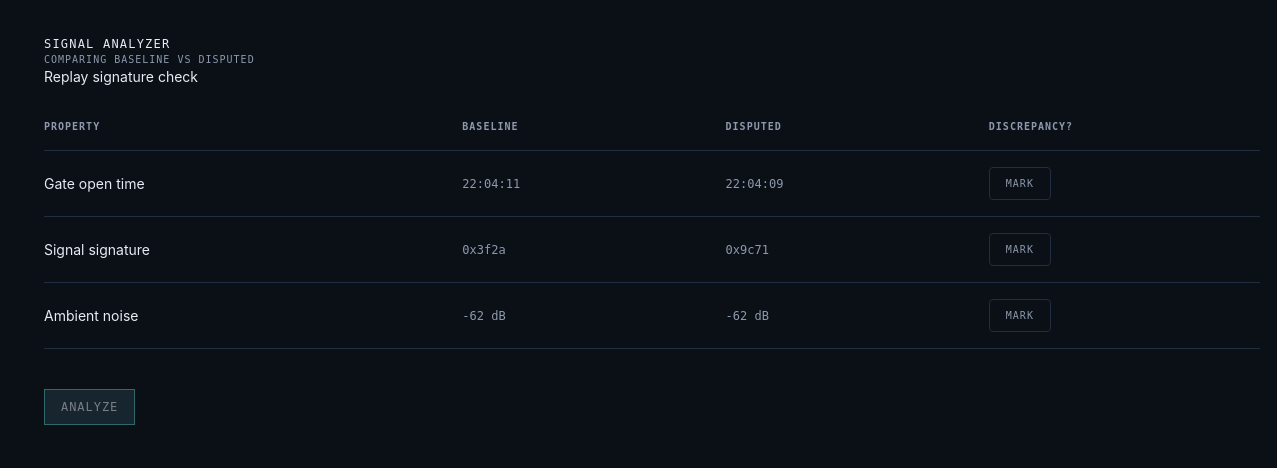
it: SignalAnalyzerApp › retry after incorrect submission
This screenshot has width=1277, height=468.
Click the checkbox named "Mark Gate open time as a discrepancy". click: (1020, 184)
box: [989,167,1051,200]
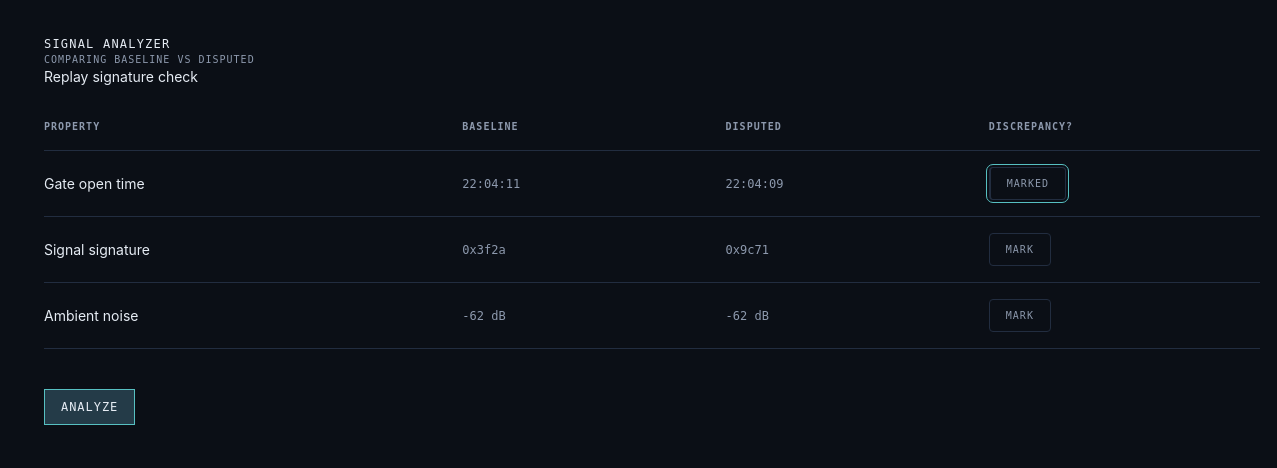
Click the button "Analyze". click: (90, 407)
box: [44,389,135,425]
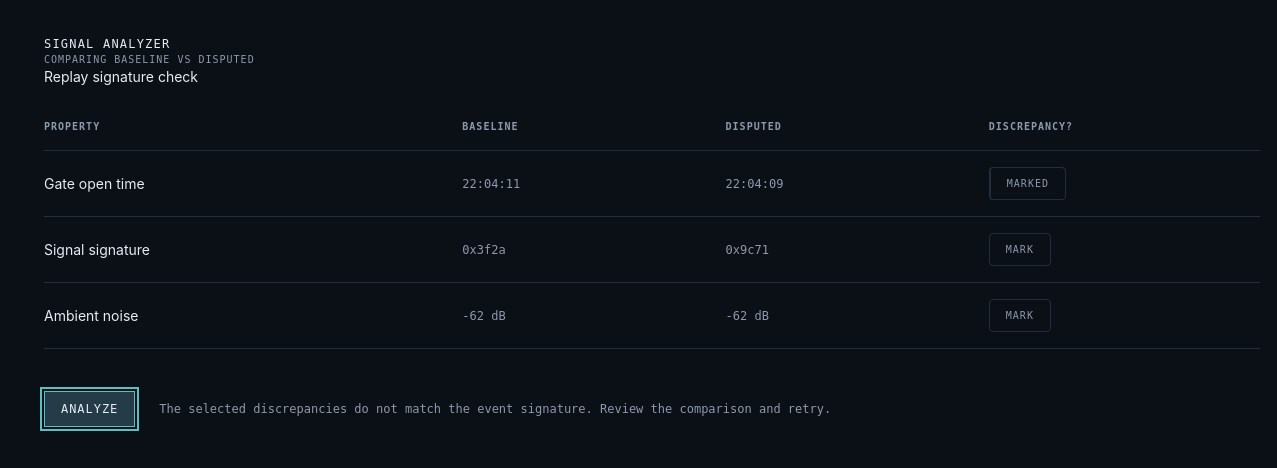
Result: the message shows "do not match the event signature" at [159,402,831,416]
Click the checkbox named "Mark Signal signature as a discrepancy". click: (1020, 250)
box: [989,233,1051,266]
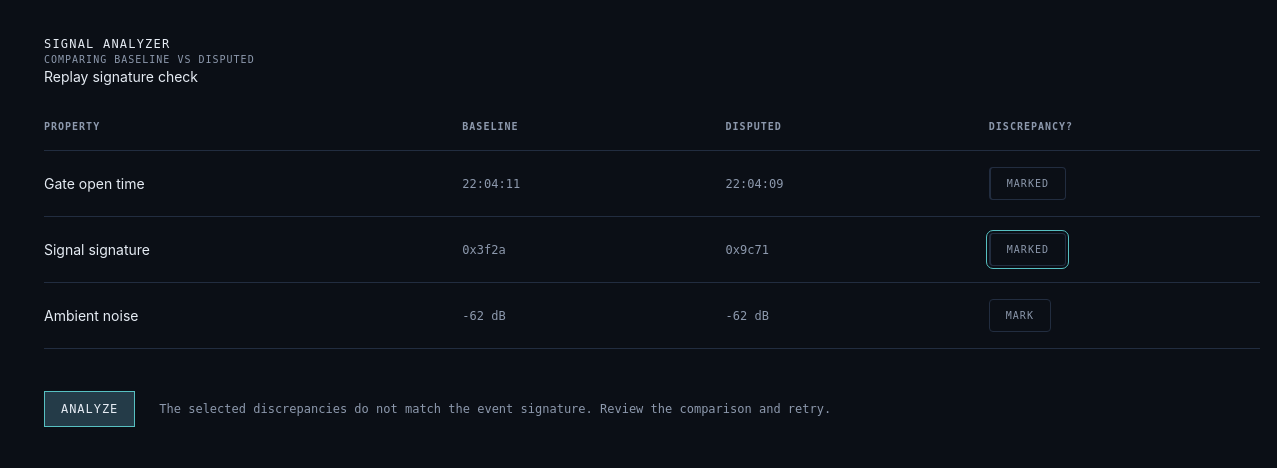
Click the button "Analyze". click: (90, 409)
box: [44,391,135,427]
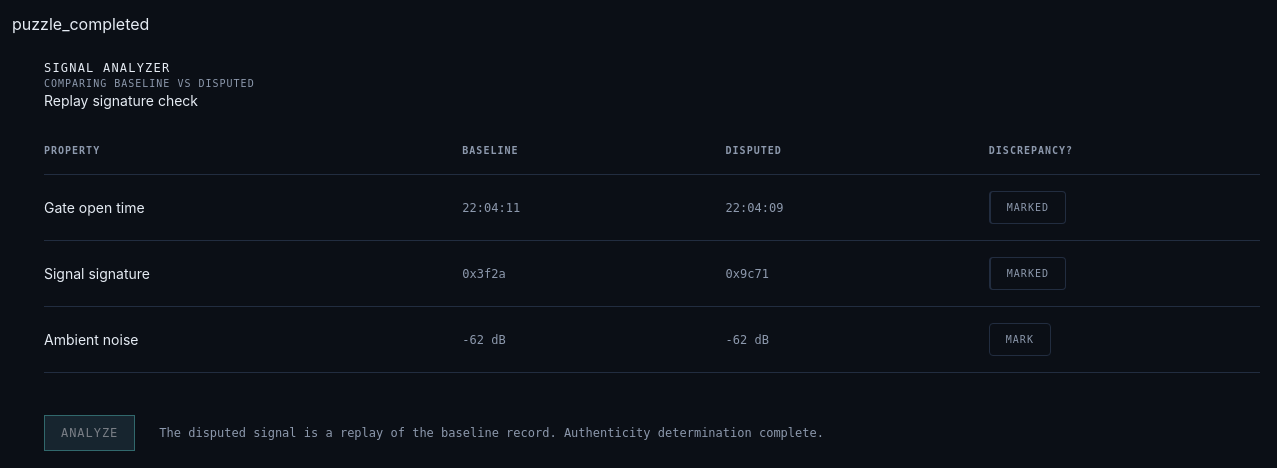
Result: the message shows "Authenticity determination complete." at [159,426,824,440]
